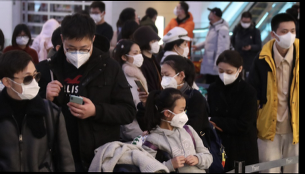with_mask: (17, 68, 42, 102), (65, 43, 93, 68), (276, 26, 298, 50), (170, 105, 189, 128), (160, 70, 180, 90), (217, 67, 239, 85), (128, 49, 145, 67), (15, 32, 30, 47), (89, 9, 103, 25), (149, 38, 162, 55), (180, 40, 191, 58), (174, 4, 183, 18), (240, 20, 253, 29), (135, 14, 142, 26)
